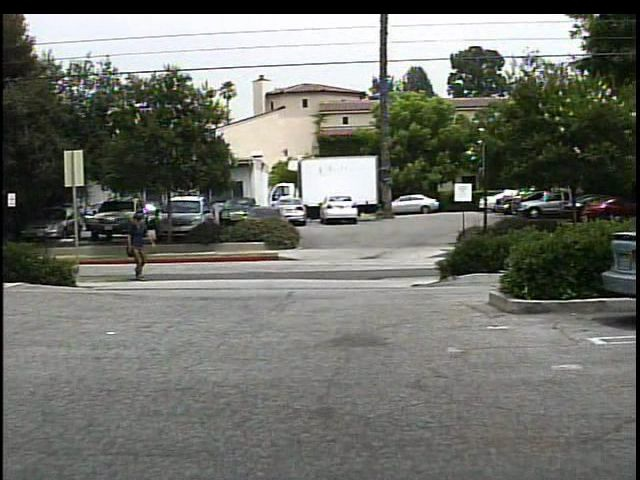person: (122, 209, 156, 281)
